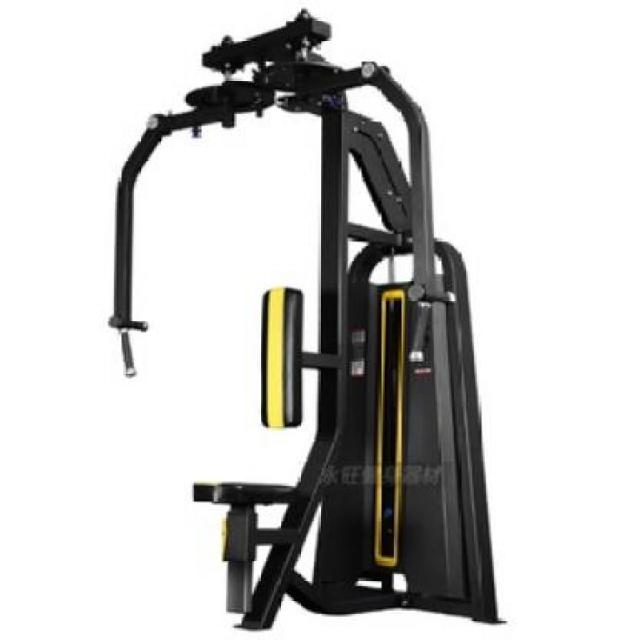chest fly machine: (89, 7, 518, 640)
